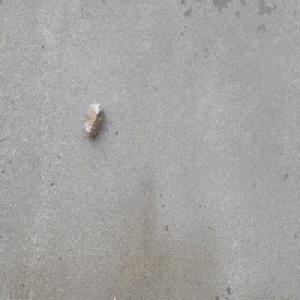Rock: (83, 100, 103, 140)
